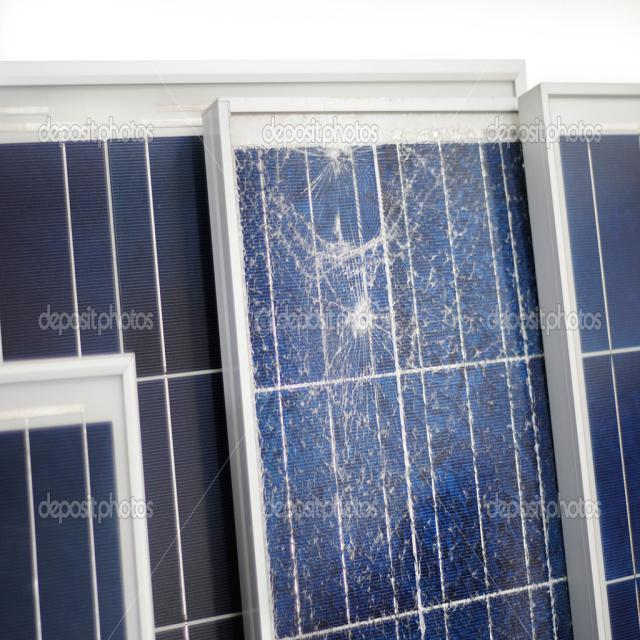Anomaly Solar Panel: (230, 124, 574, 639)
Normal Solar Panel: (0, 135, 244, 640), (561, 134, 639, 639)
Structural Damage: (265, 192, 437, 428), (294, 145, 375, 185)
